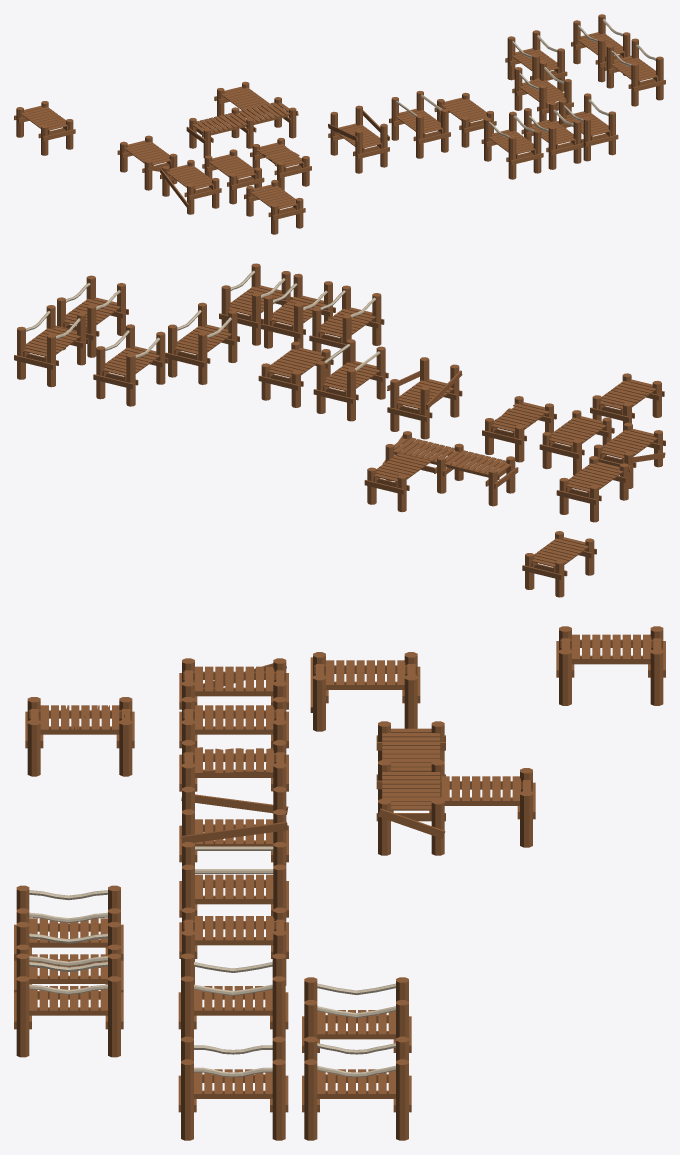
Rendered from Dock.fbx.
3 views of the same model, one above another, from view 1: azimuth 30°, elevation 25°; view 2: azimuth 150°, elevation 25°; view 3: azimuth 270°, elevation 25° (orthographic). The views are drawn at different scales.
Parts seen in each view (by area): view 1: Dock Part.001, Dock Part.010, Dock Part.009, Dock Part.008, Dock Part.014, Dock Part.011, Dock Part.012, Dock Part.013, Dock Part.005, Dock Part.016, Dock Part.015, Cube.020 (+5 smaller); view 2: Dock Part.001, Dock Part.009, Dock Part.008, Dock Part.016, Dock Part.013, Dock Part.015, Dock Part.010, Dock Part.011, Dock Part.014, Cube.020, Dock Part.003, Dock Part.012 (+5 smaller); view 3: Dock Part.001, Dock Part.014, Dock Part.015, Dock Part.012, Dock Part.013, Dock Part.008, Dock Part.003, Cube.020, Dock Part.007, Dock Part.016, Dock Part.009, Dock Part.010 (+5 smaller).
Boxes of the visible parts, x1,y1,x2,y2 form: Dock Part.001: (186,81,298,158); Dock Part.010: (481,111,543,179); Dock Part.009: (328,105,389,173); Dock Part.008: (389,91,450,158); Dock Part.014: (604,38,665,106); Dock Part.011: (521,102,583,169); Dock Part.012: (556,93,618,161); Dock Part.013: (512,61,573,121); Dock Part.005: (160,159,221,214); Dock Part.016: (505,30,567,91); Dock Part.015: (571,14,631,82); Cube.020: (14,101,75,155); Dock Part.001: (364,431,518,512); Dock Part.009: (387,357,462,439); Dock Part.008: (313,339,388,421); Dock Part.016: (93,324,168,406); Dock Part.013: (165,302,239,384); Dock Part.015: (14,305,88,387); Dock Part.010: (309,285,384,365); Dock Part.011: (261,273,335,348); Dock Part.014: (55,275,128,357); Cube.020: (522,531,596,597); Dock Part.003: (556,456,630,522); Dock Part.012: (219,263,293,345); Dock Part.001: (376,721,535,855); Dock Part.014: (178,1036,288,1140); Dock Part.015: (302,1036,411,1140); Dock Part.012: (14,953,123,1057); Dock Part.013: (178,953,288,1038); Dock Part.008: (179,842,288,917); Dock Part.003: (310,652,420,731); Cube.020: (556,626,665,705); Dock Part.007: (25,697,134,776); Dock Part.016: (302,977,411,1052); Dock Part.009: (179,786,288,862); Dock Part.010: (14,885,123,960).
Bounding box in the file's own units: 3847 × 319 × 2244.
